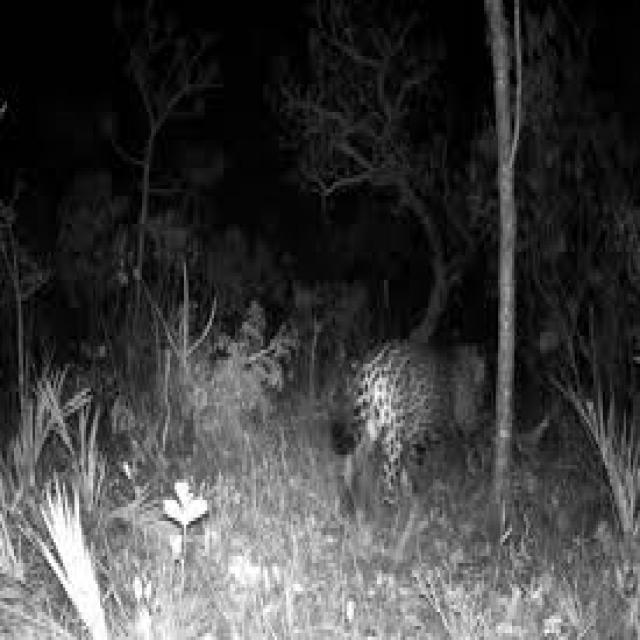Jaguar: (338, 329, 491, 493)
